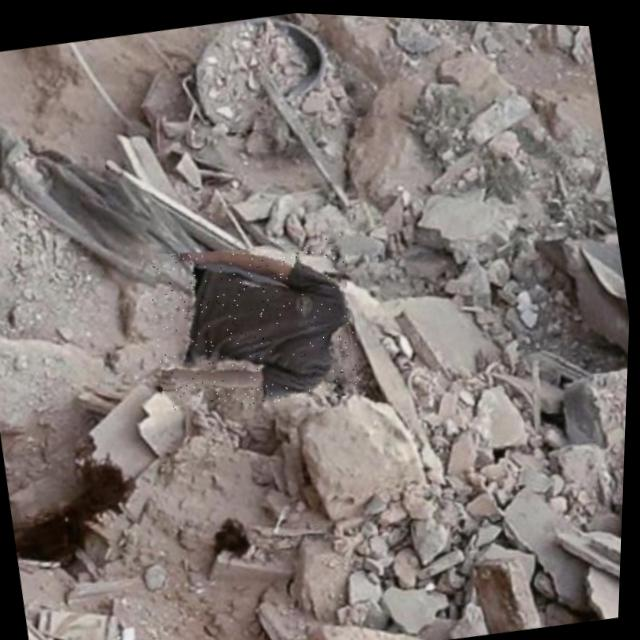Person in Rubble: (142, 222, 369, 420)
